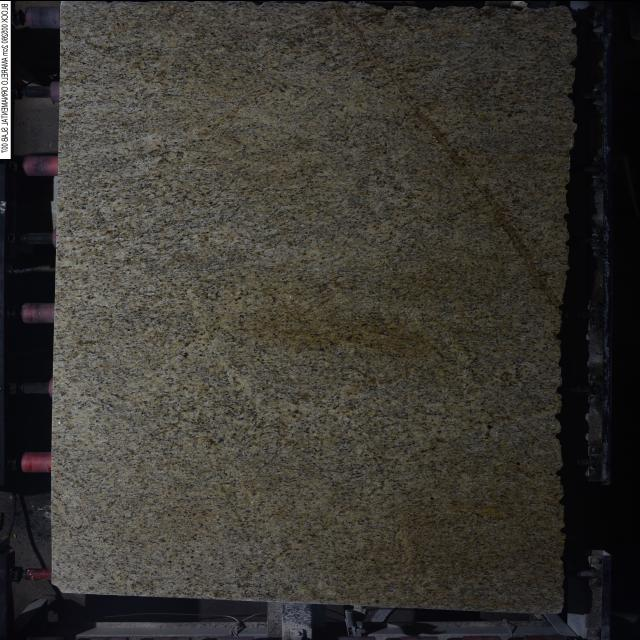chapa: (52, 0, 578, 611)
